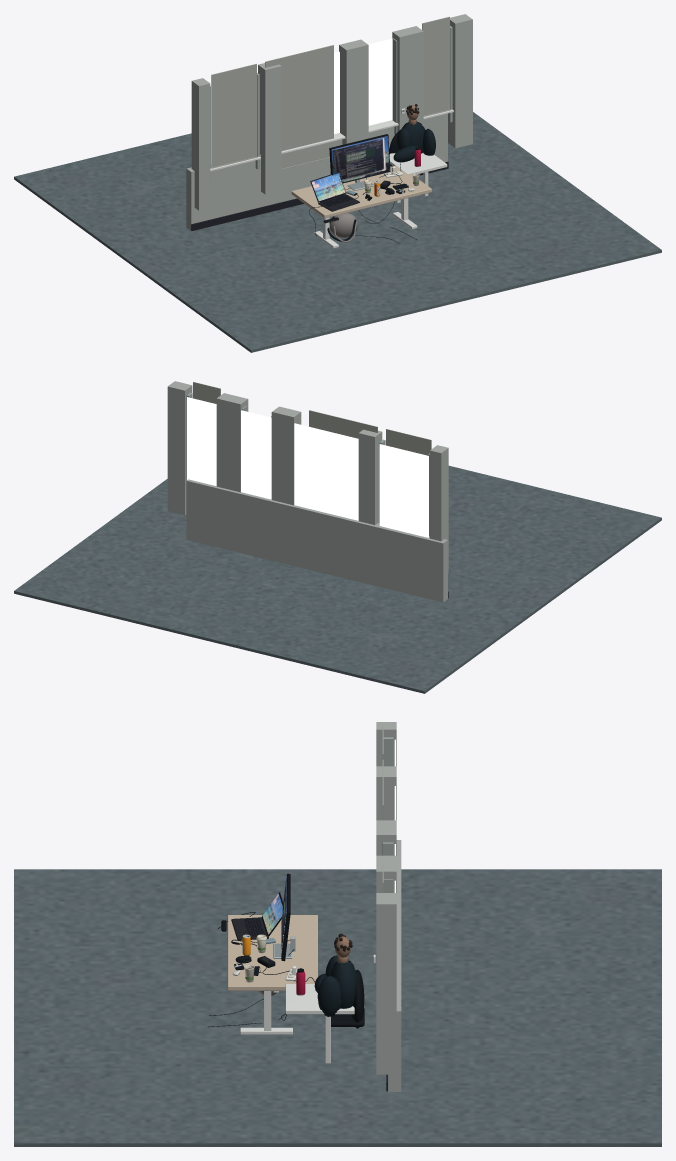
Rendered from codex.glb.
3 renders of one model, top to bottom at view 1: azimuth 30°, elevation 25°; view 2: azimuth 150°, elevation 25°; view 3: azimuth 270°, elevation 25°, orthographic. The views are drawn at different scales.
Visible parts, largest first — view 1: office carpet floor, lowered grey roller shade.001, back wall below windows, lowered grey roller shade, wall pier.002, wall pier.004, wall pier.001, lowered grey roller shade.002, wall pier, wall pier.003, wide ivory desktop, window illuminated glass.002 (+6 smaller); view 2: office carpet floor, back wall below windows, window illuminated glass.001, window illuminated glass, wall pier.004, window illuminated glass.002, window illuminated glass.003, wall pier.003, wall pier.002, wall pier.001, wall pier, lowered grey roller shade.001 (+1 smaller); view 3: office carpet floor, wide ivory desktop, wall pier.004, back wall below windows, wall pier.001, adjacent white desk surface, sweatshirt torso, right sweatshirt arm, wall pier.003, wall pier, wall pier.002.
Part boxes in pixels (<box>): office carpet floor: <box>14,112,661,352</box>; lowered grey roller shade.001: <box>265,45,333,168</box>; back wall below windows: <box>186,113,447,230</box>; lowered grey roller shade: <box>211,64,256,167</box>; wall pier.002: <box>339,39,368,144</box>; wall pier.004: <box>448,14,472,148</box>; wall pier.001: <box>258,63,281,194</box>; lowered grey roller shade.002: <box>422,16,449,115</box>; wall pier: <box>191,78,210,210</box>; wall pier.003: <box>392,26,423,131</box>; wide ivory desktop: <box>291,165,431,218</box>; window illuminated glass.002: <box>368,38,392,125</box>; office carpet floor: <box>14,465,661,693</box>; back wall below windows: <box>186,479,447,602</box>; window illuminated glass.001: <box>294,423,358,520</box>; window illuminated glass: <box>379,444,428,537</box>; wall pier.004: <box>167,381,192,515</box>; window illuminated glass.002: <box>241,410,271,499</box>; window illuminated glass.003: <box>187,397,216,485</box>; wall pier.003: <box>216,393,248,492</box>; wall pier.002: <box>271,406,301,505</box>; wall pier.001: <box>358,429,382,524</box>; wall pier: <box>430,445,448,572</box>; lowered grey roller shade.001: <box>309,410,377,438</box>; office carpet floor: <box>14,869,661,1146</box>; wide ivory desktop: <box>227,915,317,990</box>; wall pier.004: <box>376,893,396,1074</box>; back wall below windows: <box>388,840,401,1091</box>; wall pier.001: <box>376,766,396,820</box>; adjacent white desk surface: <box>285,984,354,1014</box>; sweatshirt torso: <box>330,959,356,1008</box>; right sweatshirt arm: <box>317,976,341,1016</box>; wall pier.003: <box>376,855,396,892</box>; wall pier: <box>376,722,396,766</box>; wall pier.002: <box>376,820,396,855</box>.
Size of the model in its own units: 8 by 2.9 by 8.
35 materials, 3 textured.
